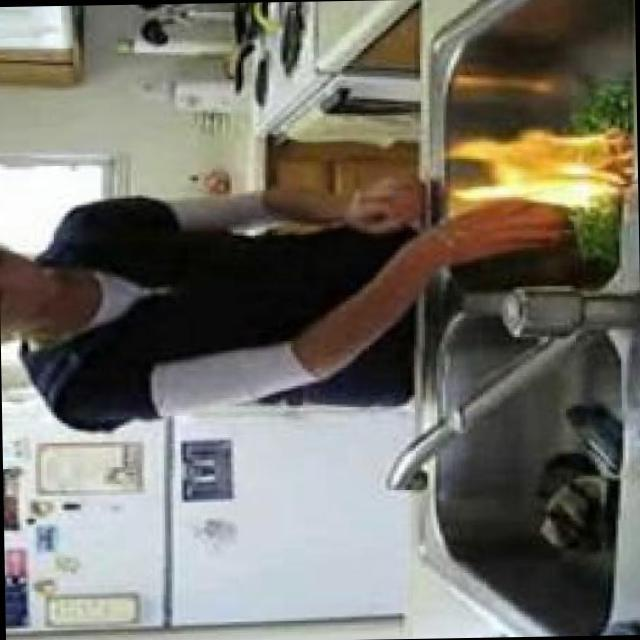Fire: (458, 131, 620, 210)
